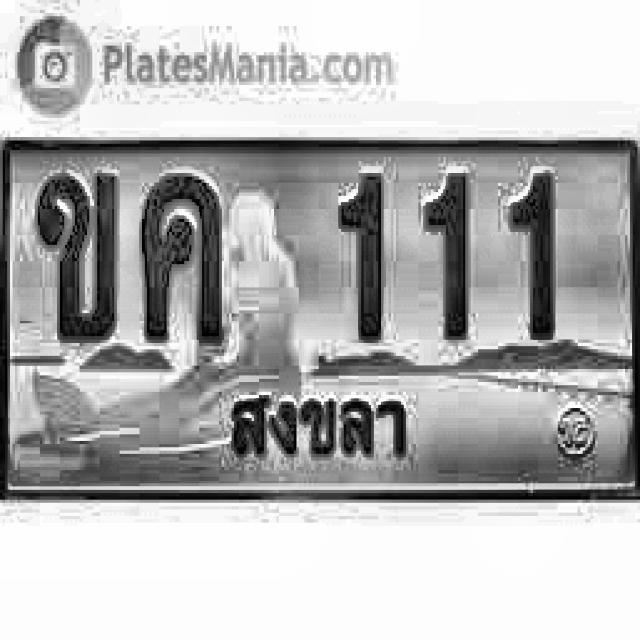license-plate: (0, 123, 640, 525)
